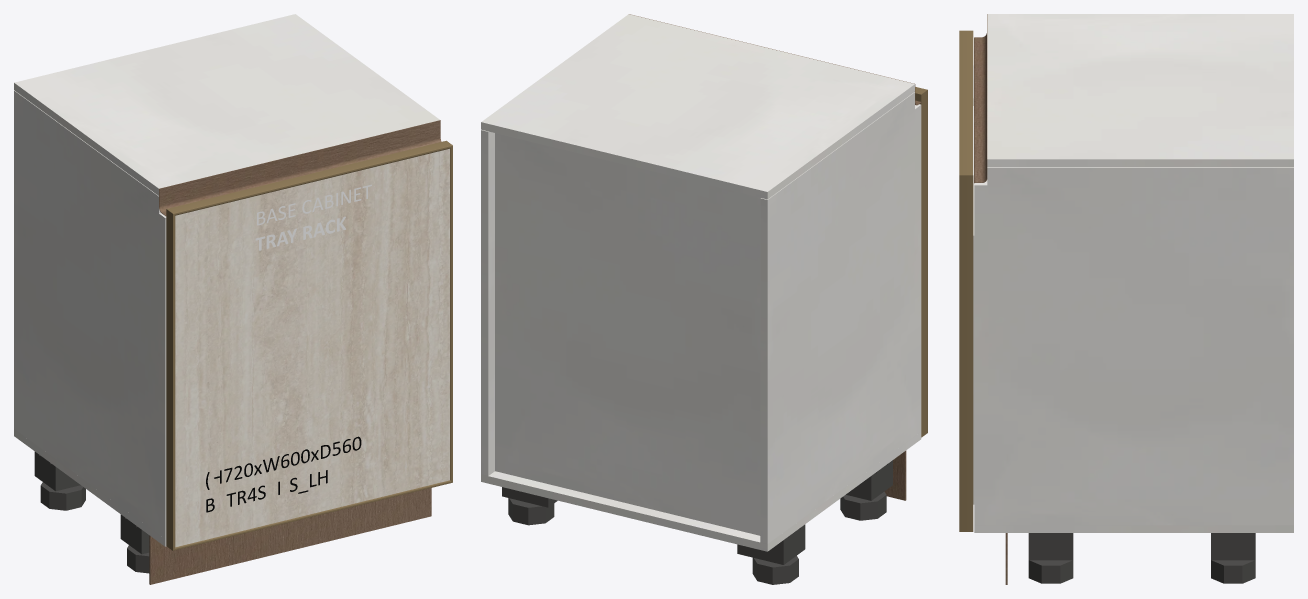
Rendered from BC-AC-CJ-ST-TR-LHS-XXX-600-720-560-15.glb.
3 views of the same model, side by side, from view 1: azimuth 30°, elevation 25°; view 2: azimuth 150°, elevation 25°; view 3: azimuth 270°, elevation 25° (orthographic). The views are drawn at different scales.
Visible parts, largest first — view 1: Object_node_11, TP_node, TP_node_1, Object_node_13, ExtrSplGeo, Extrusion_node_1, Extrusion, 2D text_node, 2D text, TP, Extrusion_node_0, Extrusion_node (+3 smaller); view 2: TP_node_9, TP_node, TP_node_1, TP, TP_node_0, Extrusion_node_1, Plate, Foot, Foot_node_0, Foot_node, Plate_node_0, Object_node_13; view 3: TP_node_0, TP_node_1, Extrusion_node, TP, ExtrSplGeo, Extrusion, Plate_node_1, Plate_node, Foot_node_1, Foot_node, TP_node_7.
Part boxes in pixels (<box>): Object_node_11: <box>175,148,449,547</box>; TP_node: <box>14,90,166,539</box>; TP_node_1: <box>14,14,439,195</box>; Object_node_13: <box>149,488,431,584</box>; ExtrSplGeo: <box>159,120,441,216</box>; Extrusion_node_1: <box>166,209,175,550</box>; Extrusion: <box>167,140,452,215</box>; 2D text_node: <box>206,436,361,512</box>; 2D text: <box>255,184,371,250</box>; TP: <box>14,429,166,546</box>; Extrusion_node_0: <box>173,480,452,550</box>; Extrusion_node: <box>450,146,452,482</box>; TP_node_9: <box>495,133,760,535</box>; TP_node: <box>760,92,921,544</box>; TP_node_1: <box>481,14,914,199</box>; TP: <box>481,432,921,551</box>; TP_node_0: <box>481,130,494,475</box>; Extrusion_node_1: <box>915,90,927,437</box>; Plate: <box>737,524,805,564</box>; Foot: <box>752,555,798,584</box>; Foot_node_0: <box>840,491,886,520</box>; Foot_node: <box>508,498,554,525</box>; Plate_node_0: <box>846,460,892,500</box>; Object_node_13: <box>884,450,906,500</box>; TP_node_0: <box>974,167,1293,525</box>; TP_node_1: <box>987,14,1293,166</box>; Extrusion_node: <box>959,175,973,531</box>; TP: <box>974,525,1293,532</box>; ExtrSplGeo: <box>974,14,987,183</box>; Extrusion: <box>959,30,972,175</box>; Plate_node_1: <box>1028,533,1073,560</box>; Plate_node: <box>1211,533,1255,560</box>; Foot_node_1: <box>1028,560,1073,583</box>; Foot_node: <box>1211,560,1255,583</box>; TP_node_7: <box>973,243,974,504</box>.
Size of what is drawn, in the model's own units: 0.6 by 0.82 by 0.5899.
Materials: 8 (3 with a texture image).
